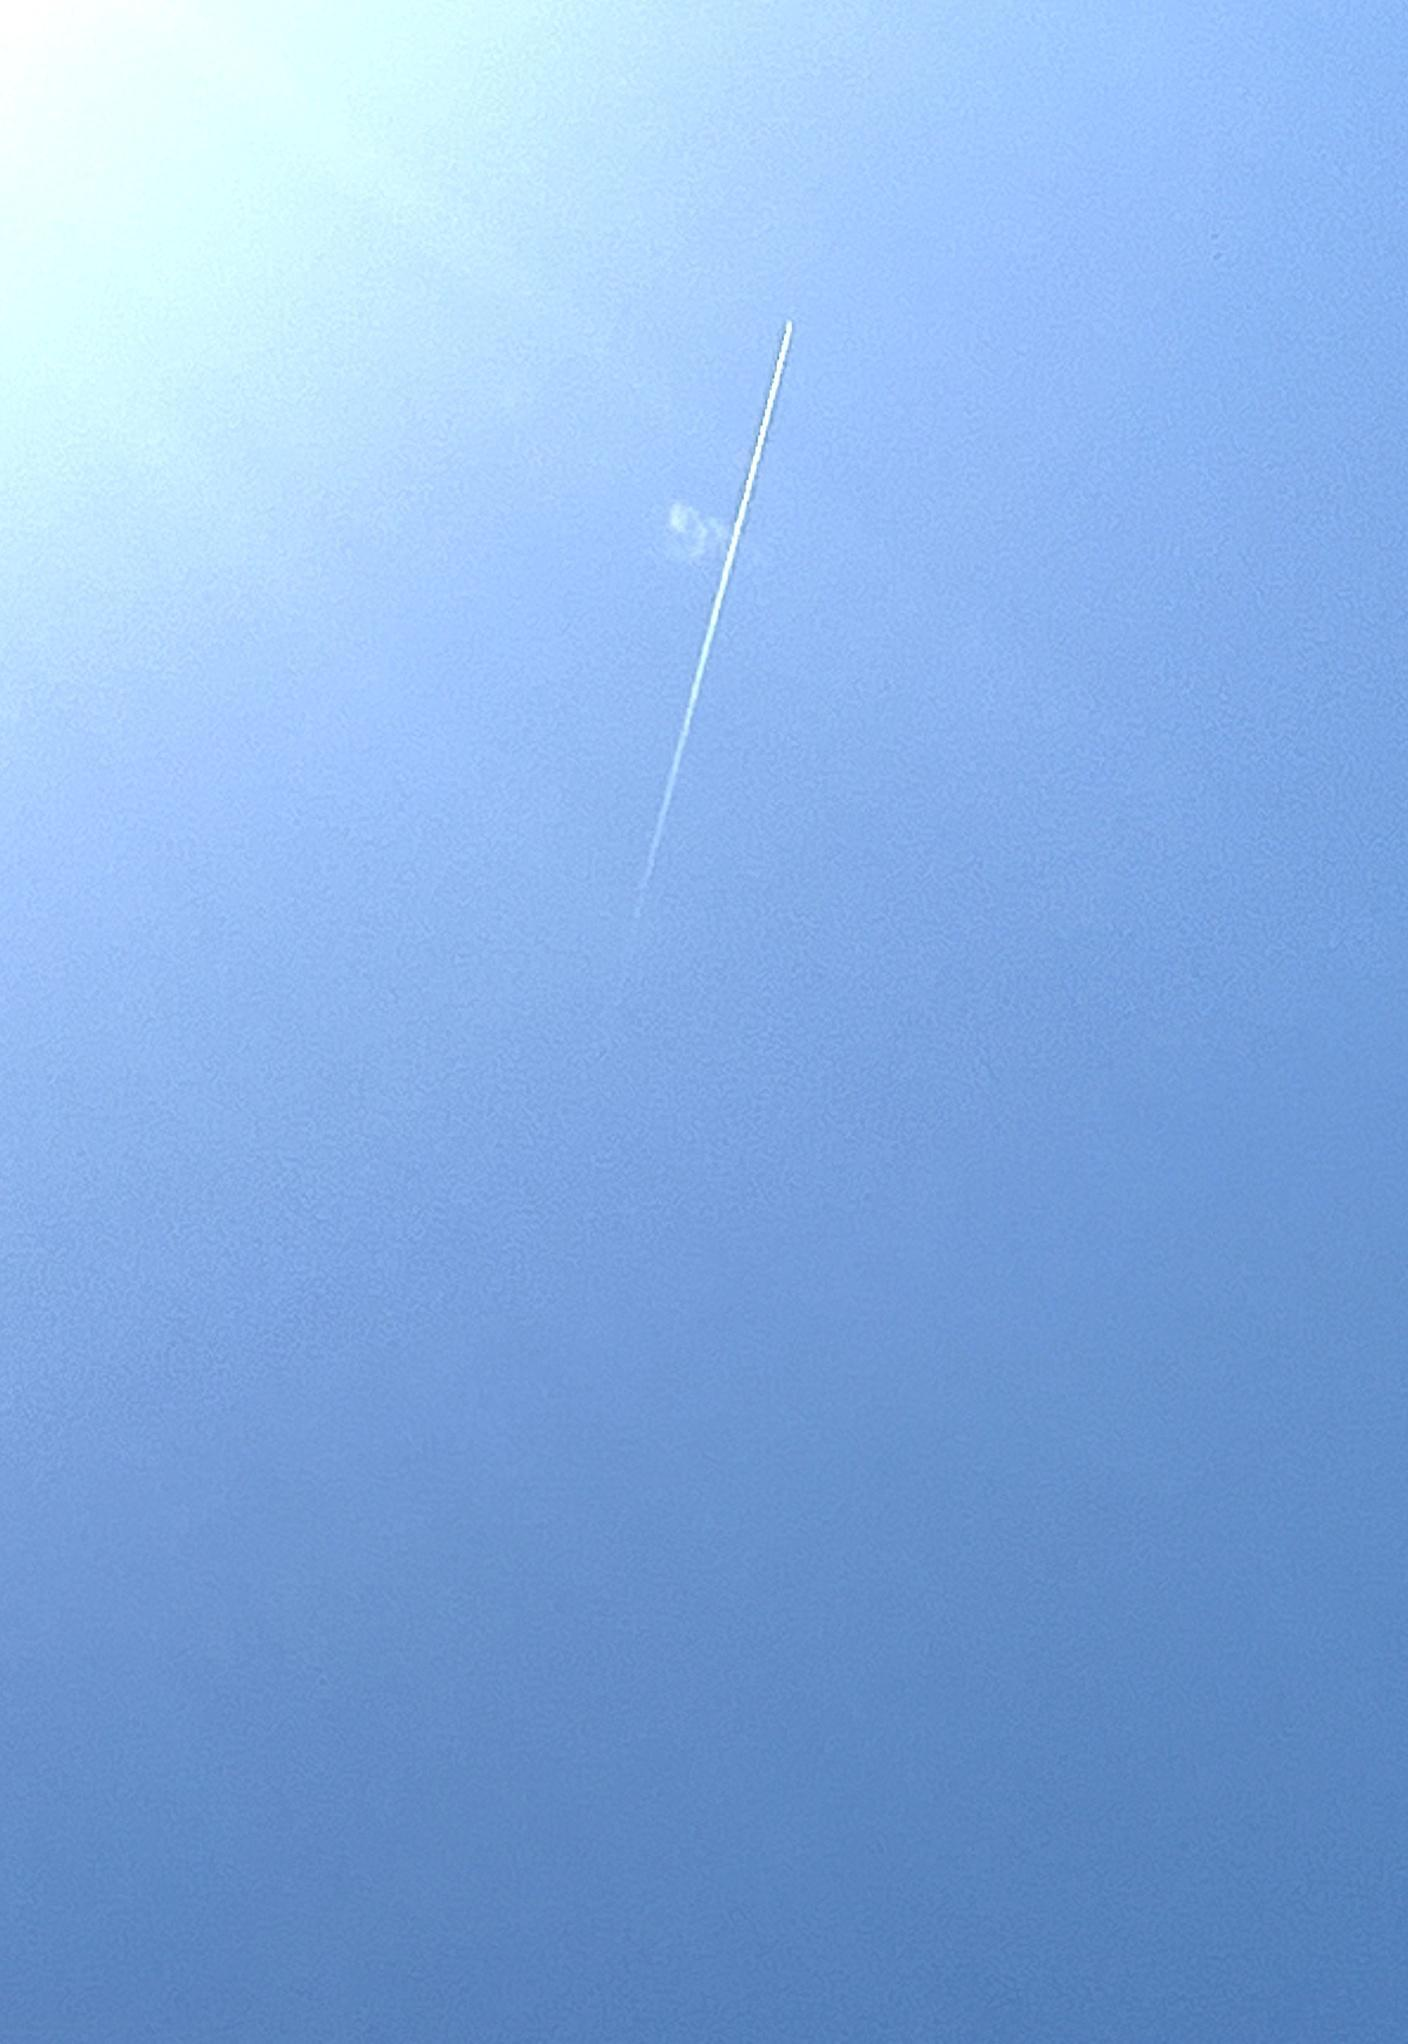Plane: (576, 298, 855, 924)
